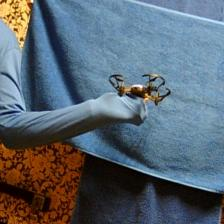drone: (109, 70, 171, 107)
